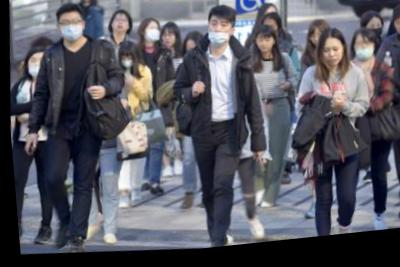NONE: (319, 48, 343, 74), (110, 15, 130, 37), (255, 39, 275, 60), (307, 35, 323, 54), (161, 34, 177, 52), (391, 26, 400, 49)
OK: (59, 16, 85, 43), (364, 27, 383, 50), (142, 27, 161, 48), (118, 55, 134, 73), (79, 1, 92, 7)
WRONG: (206, 23, 233, 51), (25, 54, 46, 79), (352, 46, 373, 69)
